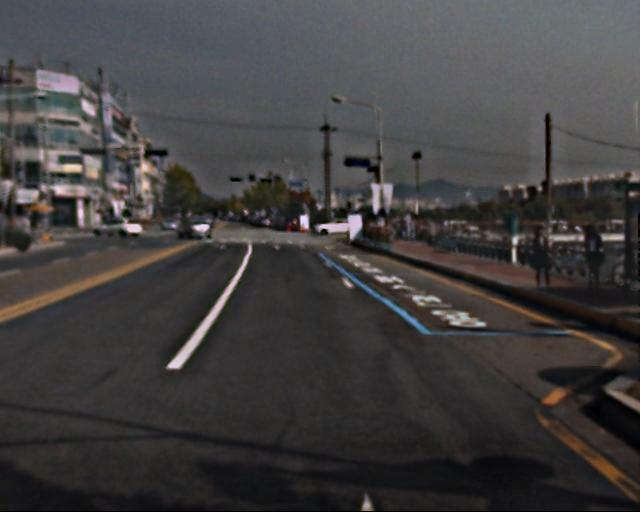person: (529, 224, 557, 293), (578, 224, 606, 292)
